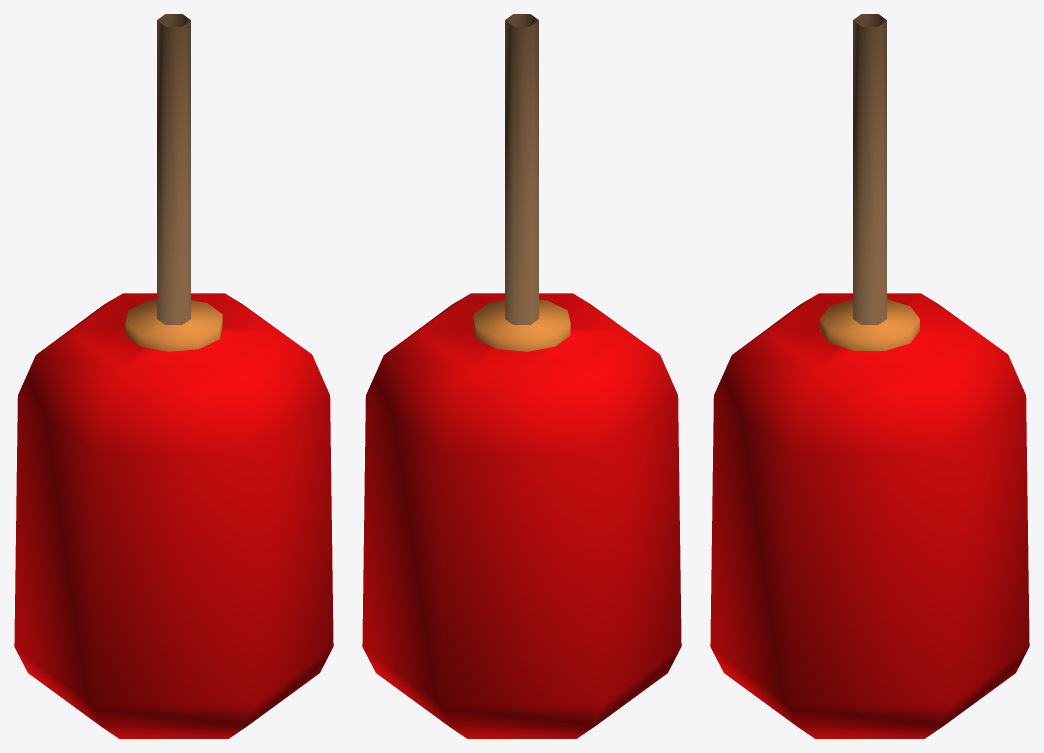
File: Lampion_2.glb
The picture shows the model from 3 angles, left to right: view 1: azimuth 30°, elevation 25°; view 2: azimuth 150°, elevation 25°; view 3: azimuth 270°, elevation 25°; orthographic projection.
Visible parts, largest first — view 1: Lampion_2; view 2: Lampion_2; view 3: Lampion_2.
Boxes of the visible parts, left/top/right/bottom form: Lampion_2: left=14, top=14, right=333, bottom=738; Lampion_2: left=362, top=14, right=681, bottom=738; Lampion_2: left=710, top=14, right=1029, bottom=738.
Bounding box in the file's own units: 0.2026 × 0.563 × 0.2335.
